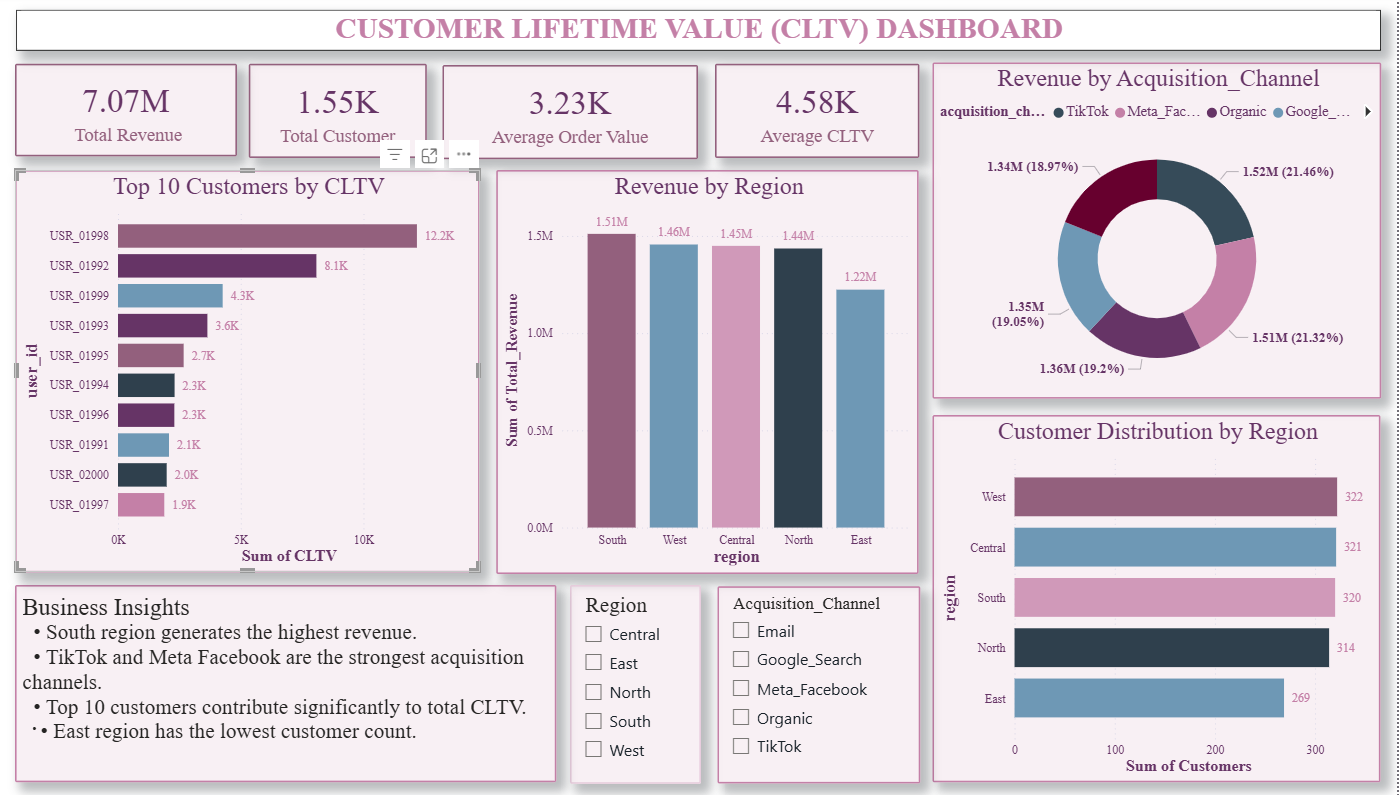

The dashboard page shown, as its layout file describes it:
{"tool":"powerbi","page":{"name":"Page 1","canvas":[1400,800],"ordinal":0},"visuals":[{"type":"textbox","title":"CUSTOMER LIFETIME VALUE (CLTV) DASHBOARD","box":[26.7,11.4,1355.7,38.2],"z":0},{"type":"card","fields":{"Values":["Sum(channel_summary.Total_Revenue)"]},"box":[25.4,64.9,211.1,92.8],"z":1000},{"type":"card","fields":{"Values":["Count(customer_cltv.user_id)"]},"box":[249.3,63.6,178.1,94.1],"z":2000},{"type":"card","fields":{"Values":["Avg(customer_cltv.average_order_value)"]},"box":[443.9,64.9,278.5,94.1],"z":3000},{"type":"card","fields":{"Values":["Avg(customer_cltv.CLTV)"]},"box":[741.5,63.6,226.4,94.1],"z":4000},{"type":"clusteredBarChart","title":"Top 10 Customer by CLTV","fields":{"Y":["Sum(customer_cltv.CLTV)"],"Category":["customer_cltv.user_id"]},"box":[15.3,179.3,465.5,394.3],"z":5000},{"type":"clusteredColumnChart","fields":{"Category":["region_summary.region"],"Y":["Sum(region_summary.Total_Revenue)"]},"box":[497.3,179.3,465.5,395.5],"z":6000},{"type":"donutChart","title":"Revenue by acquisition_channel","fields":{"Category":["channel_summary.acquisition_channel"],"Y":["Sum(channel_summary.Total_Revenue)"]},"box":[975.5,63.6,407,337],"z":7000},{"type":"barChart","title":" Customers Distribution by region","fields":{"Category":["region_summary.region"],"Y":["Sum(region_summary.Customers)"]},"box":[981.3,416,400.8,367.7],"z":8000},{"type":"slicer","fields":{"Values":["region_summary.region"]},"box":[639.9,584.7,118.9,182.4],"z":9000},{"type":"slicer","fields":{"Values":["channel_summary.acquisition_channel"]},"box":[775.4,599.9,192.1,182.4],"z":10000},{"type":"textbox","title":"Business Insights  South region generates the highest revenue. TikTok and Meta Facebook are the strongest acquisition channels. Top 10 customers contribute significantly to overall CLTV. High-CLTV cus","box":[15.2,584.7,612.3,197.7],"z":11000}]}

Visuals, with their boxes in screenshot pixels (x1, y1, x2, y2), scaled from the page's 1400x800 canvas onto the 1400x795 screenshot:
"CUSTOMER LIFETIME VALUE (CLTV) DASHBOARD" textbox: 27, 11, 1382, 49
card - Sum(channel_summary.Total_Revenue): 25, 64, 236, 157
card - Count(customer_cltv.user_id): 249, 63, 427, 157
card - Avg(customer_cltv.average_order_value): 444, 64, 722, 158
card - Avg(customer_cltv.CLTV): 742, 63, 968, 157
"Top 10 Customer by CLTV" clusteredBarChart: 15, 178, 481, 570
clusteredColumnChart - region_summary.region x Sum(region_summary.Total_Revenue): 497, 178, 963, 571
"Revenue by acquisition_channel" donutChart: 976, 63, 1382, 398
" Customers Distribution by region" barChart: 981, 413, 1382, 779
slicer - region_summary.region: 640, 581, 759, 762
slicer - channel_summary.acquisition_channel: 775, 596, 968, 777
"Business Insights  South region generates the highest revenue. TikTok and Meta Facebook are the strongest acquisition channels. Top 10 customers contribute significantly to overall CLTV. High-CLTV cus" textbox: 15, 581, 628, 778
